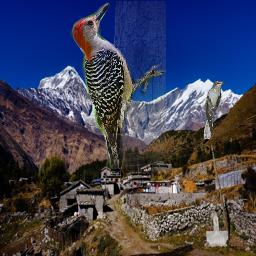Cuckoo: (203, 80, 225, 139)
Woodpecker: (67, 1, 166, 169)
